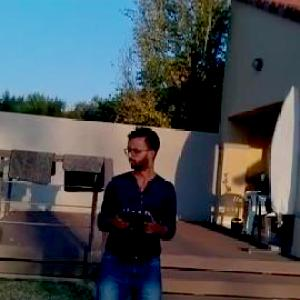follow: (88, 120, 180, 299)
